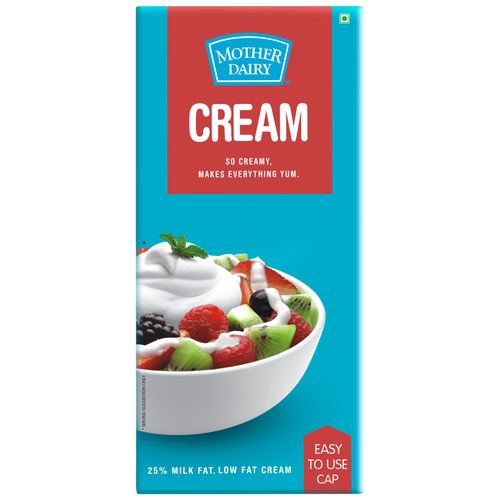Mother_Dairy: (197, 31, 302, 89)
